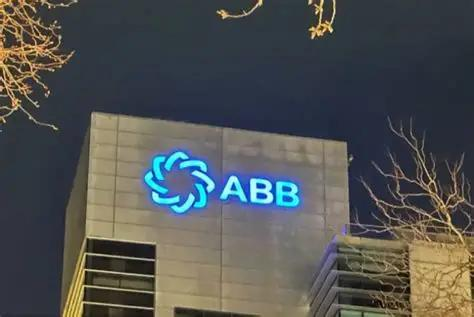ABB: (141, 147, 217, 215)
